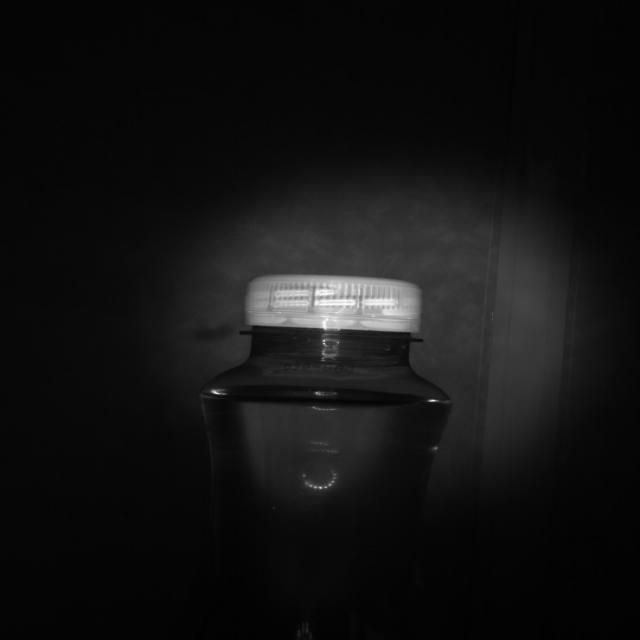Good: (243, 274, 424, 336)
